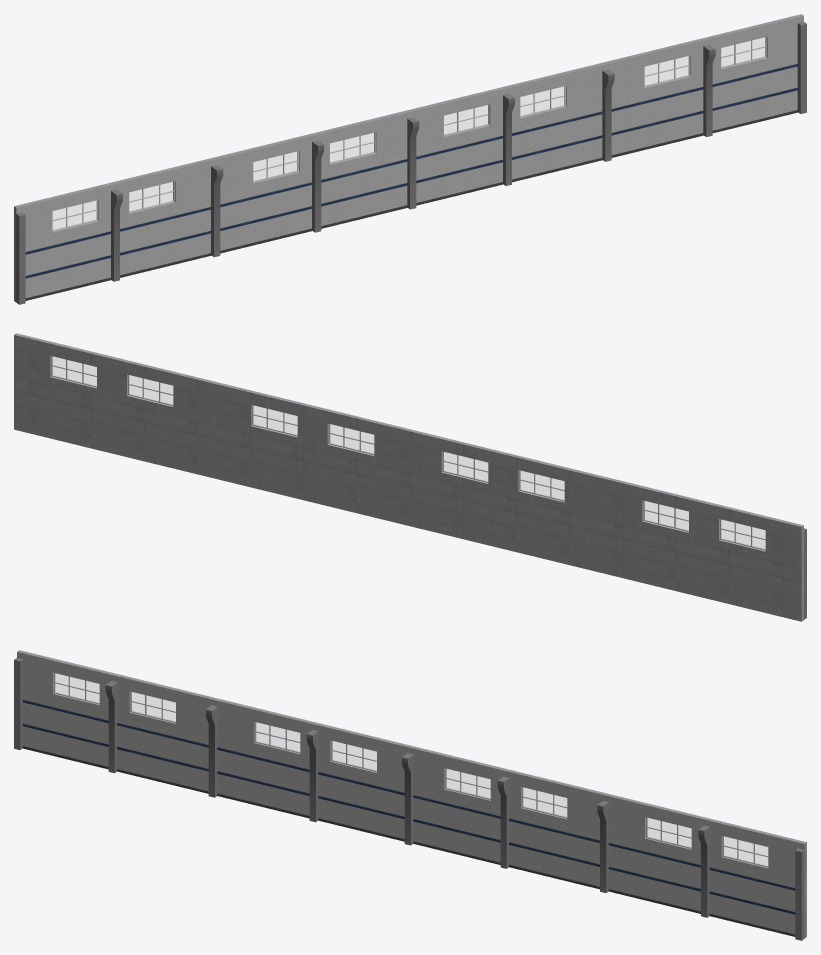
The model's file is WareBig_Walls_Wind.FBX.
3 renders of one model, top to bottom at view 1: azimuth 30°, elevation 25°; view 2: azimuth 150°, elevation 25°; view 3: azimuth 330°, elevation 25°, orthographic.
Visible parts, largest first — view 1: WareBig_Walls_Wind, WareBig_Column, WareBig_Windglass, WareBig_W, Object001, WareBig_Wind; view 2: WareBig_Walls_Wind, WareBig_Windglass, WareBig_Wind; view 3: WareBig_Walls_Wind, WareBig_Column, WareBig_Windglass, WareBig_W, Object001, WareBig_Wind.
Boxes of the visible parts, left/top/right/bottom form: WareBig_Walls_Wind: left=14, top=14, right=803, bottom=302; WareBig_Column: left=16, top=22, right=806, bottom=304; WareBig_Windglass: left=53, top=38, right=764, bottom=229; WareBig_W: left=25, top=63, right=798, bottom=278; Object001: left=25, top=110, right=798, bottom=300; WareBig_Wind: left=52, top=37, right=766, bottom=231; WareBig_Walls_Wind: left=14, top=333, right=803, bottom=621; WareBig_Windglass: left=53, top=357, right=764, bottom=548; WareBig_Wind: left=51, top=356, right=765, bottom=550; WareBig_Walls_Wind: left=17, top=650, right=806, bottom=938; WareBig_Column: left=14, top=658, right=804, bottom=940; WareBig_Windglass: left=55, top=674, right=767, bottom=865; WareBig_W: left=22, top=699, right=795, bottom=914; Object001: left=22, top=746, right=795, bottom=936; WareBig_Wind: left=54, top=673, right=768, bottom=867.
Size of the model in its own units: 2999 by 345 by 54.34.
